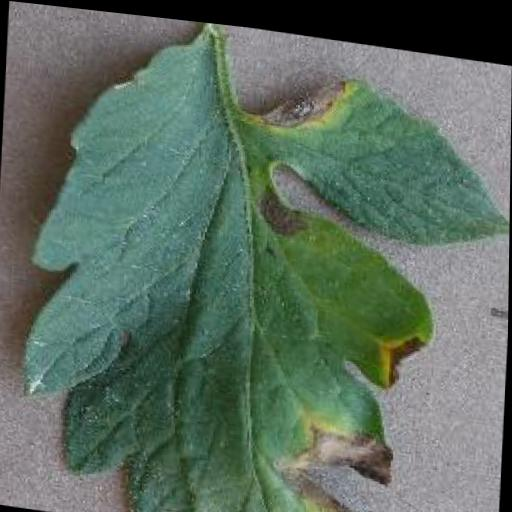Early Blight: (17, 2, 512, 512)
